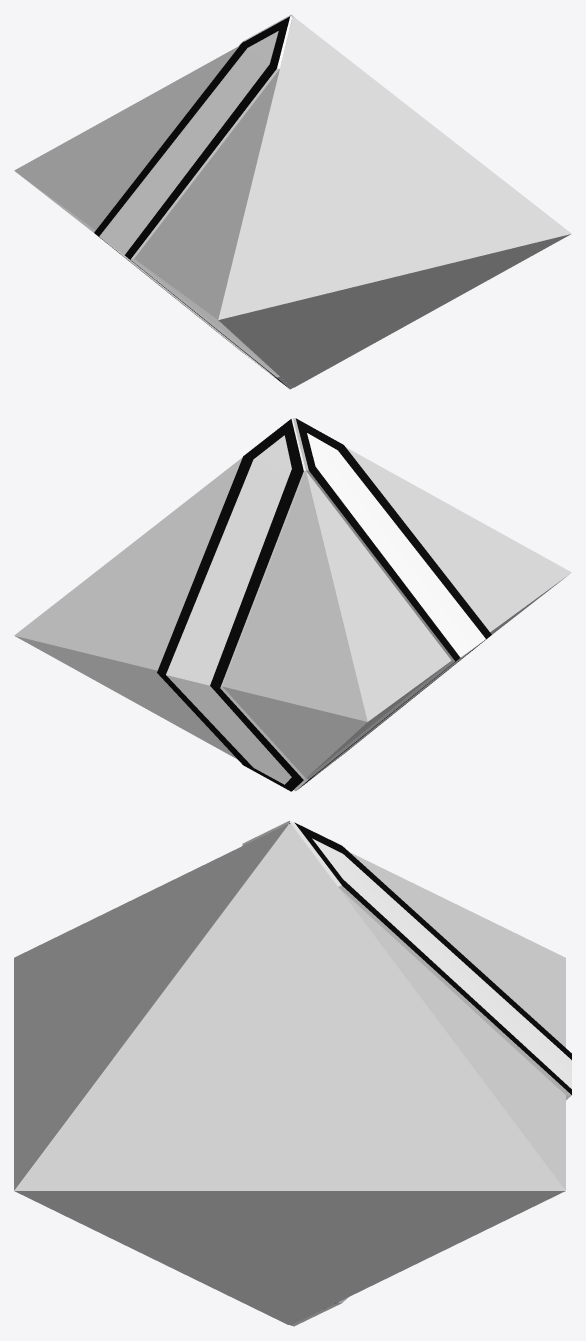
The model's file is Diamond_Stripes.fbx.
3 views of the same model, one above another, from view 1: azimuth 30°, elevation 25°; view 2: azimuth 150°, elevation 25°; view 3: azimuth 270°, elevation 25° (orthographic). The views are drawn at different scales.
Visible parts, largest first — view 1: Diamond, Stripes_Diamond; view 2: Diamond, Stripes_Diamond; view 3: Diamond, Stripes_Diamond.
Part boxes in pixels (x1,y1,x2,y2): Diamond: [14, 16, 571, 387]; Stripes_Diamond: [94, 14, 293, 389]; Diamond: [14, 418, 571, 778]; Stripes_Diamond: [157, 418, 491, 791]; Diamond: [14, 823, 565, 1324]; Stripes_Diamond: [242, 820, 571, 1326].
Bounding box in the file's own units: 1.01 × 1.01 × 1.01.
Materials: 1 (1 with a texture image).
